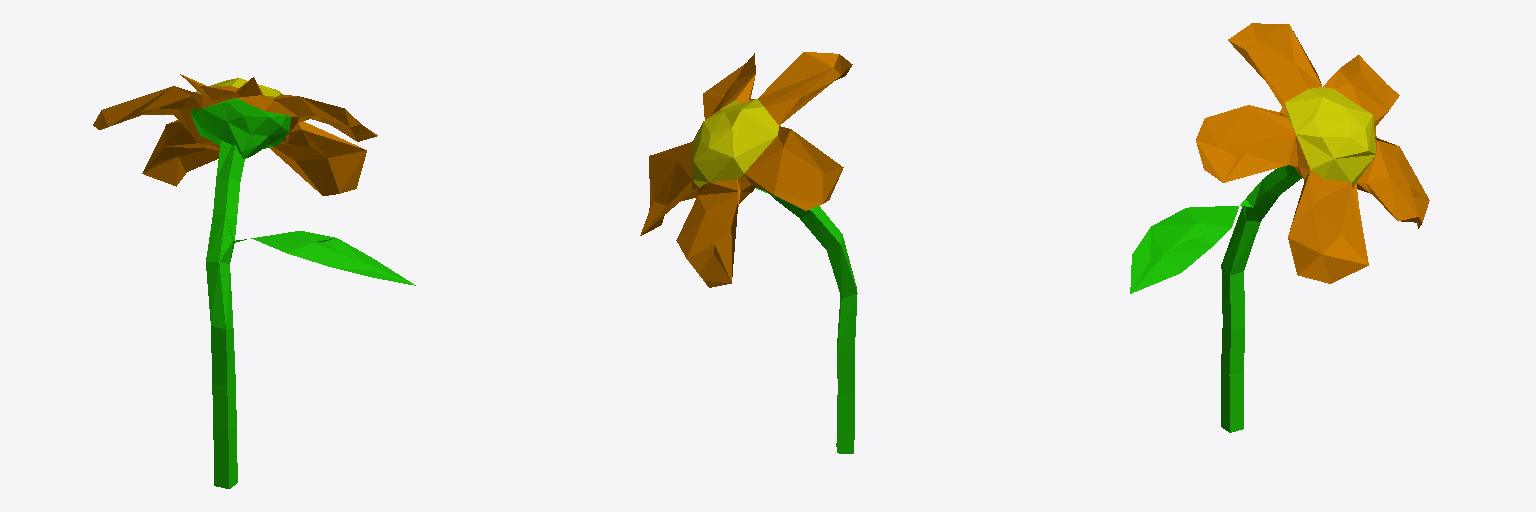
File: Flower1.obj
The picture shows the model from 3 angles: view 1: azimuth 30°, elevation 25°; view 2: azimuth 150°, elevation 25°; view 3: azimuth 270°, elevation 25°; orthographic projection.
Visible parts, largest first — view 1: Flower6_Plane.633; view 2: Flower6_Plane.633; view 3: Flower6_Plane.633.
Part boxes in pixels (x1,y1,x2,y2): Flower6_Plane.633: (93,74,415,488); Flower6_Plane.633: (640,52,857,453); Flower6_Plane.633: (1130,23,1429,432).
Size of the model in its own units: 0.8978 by 1.48 by 1.01.